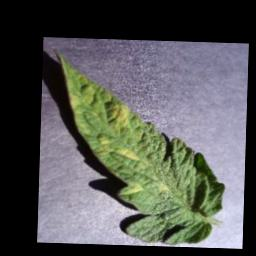Leaf_Mold: (51, 48, 177, 197)
